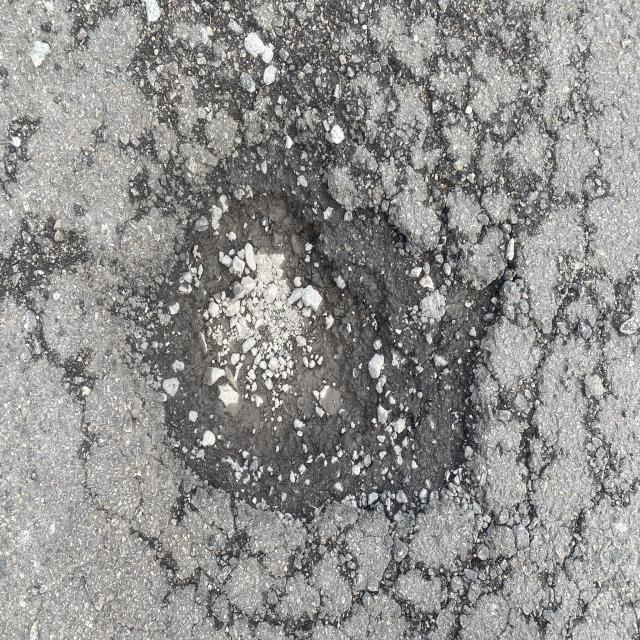pothole: (124, 114, 524, 515)
